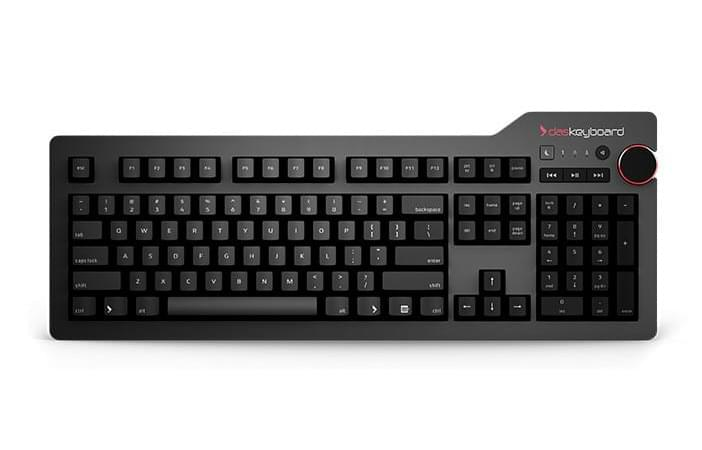keyboard: (46, 109, 660, 338)
